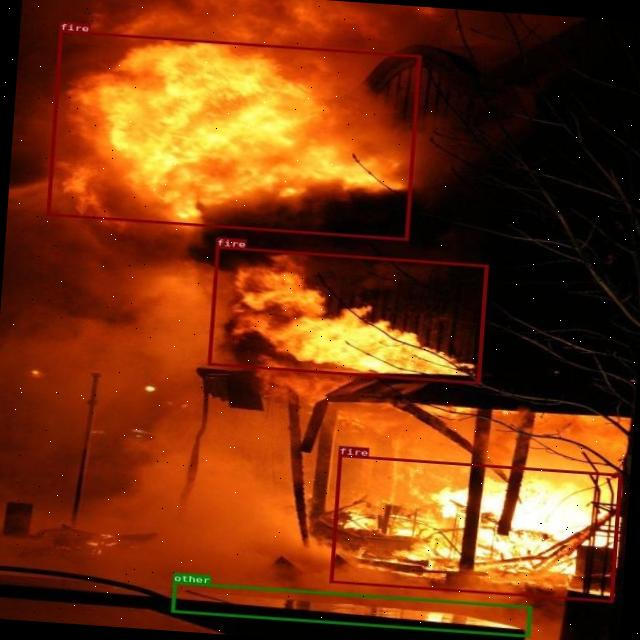fire: (46, 29, 420, 240), (329, 454, 621, 601), (207, 244, 488, 384)
